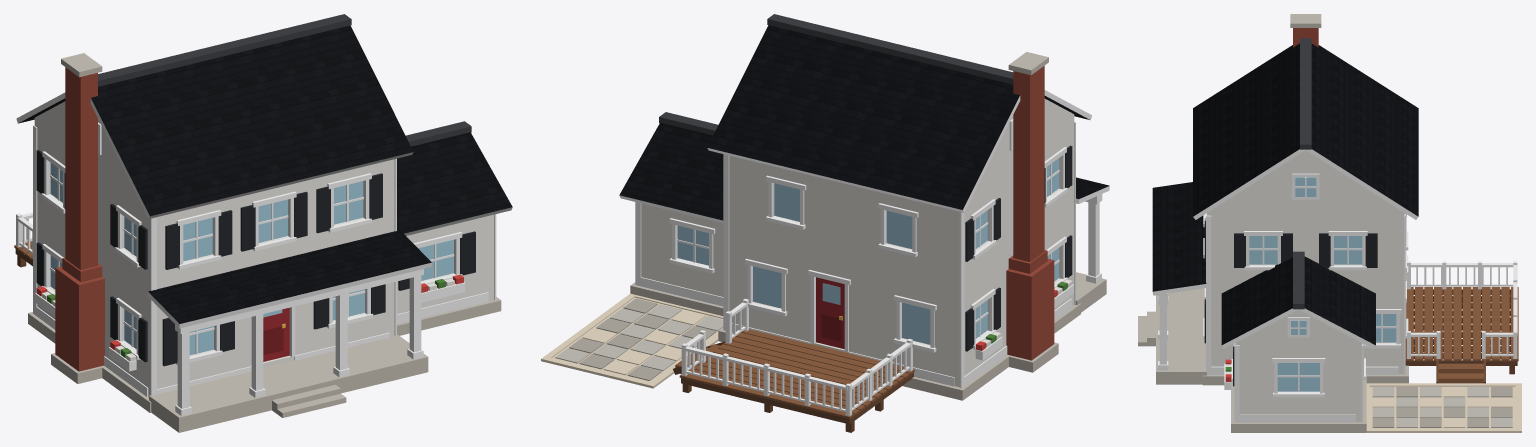
The model's file is base-03-level4.glb.
3 views of the same model, side by side, from view 1: azimuth 30°, elevation 25°; view 2: azimuth 150°, elevation 25°; view 3: azimuth 270°, elevation 25° (orthographic). The views are drawn at different scales.
Parts seen in each view (by area): view 1: base_house_3_finished, piece_addition, piece_deck; view 2: base_house_3_finished, piece_addition, piece_deck, piece_patio; view 3: base_house_3_finished, piece_addition, piece_deck, piece_patio.
Boxes of the visible parts, left/top/right/bottom form: base_house_3_finished: left=16, top=14, right=431, bottom=432; piece_addition: left=397, top=121, right=512, bottom=335; piece_deck: left=14, top=212, right=32, bottom=267; base_house_3_finished: left=707, top=14, right=1109, bottom=400; piece_addition: left=619, top=112, right=723, bottom=315; piece_deck: left=673, top=298, right=914, bottom=432; piece_patio: left=541, top=293, right=723, bottom=388; base_house_3_finished: left=1138, top=14, right=1418, bottom=385; piece_addition: left=1221, top=251, right=1375, bottom=432; piece_deck: left=1405, top=261, right=1518, bottom=383; piece_patio: left=1366, top=383, right=1521, bottom=432.
Size of the model in its own units: 13.79 by 10.18 by 13.59.
Materials: 20 (1 with a texture image).
